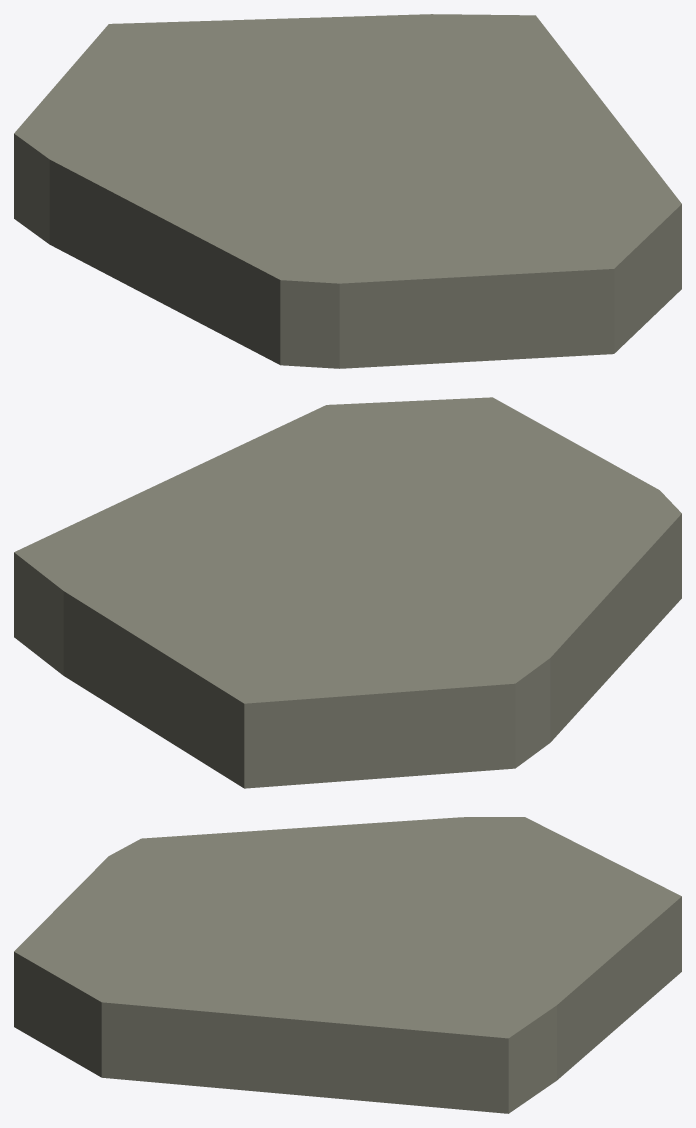
File: Tile1.fbx
The picture shows the model from 3 angles, top to bottom: view 1: azimuth 30°, elevation 25°; view 2: azimuth 150°, elevation 25°; view 3: azimuth 270°, elevation 25°; orthographic projection. The views are drawn at different scales.
Parts seen in each view (by area): view 1: Tile1; view 2: Tile1; view 3: Tile1.
Part boxes in pixels (x1,y1,x2,y2): Tile1: (14, 14, 681, 368); Tile1: (14, 397, 681, 788); Tile1: (14, 817, 681, 1113).
Size of the model in its own units: 0.2369 by 0.0376 by 0.3021.
